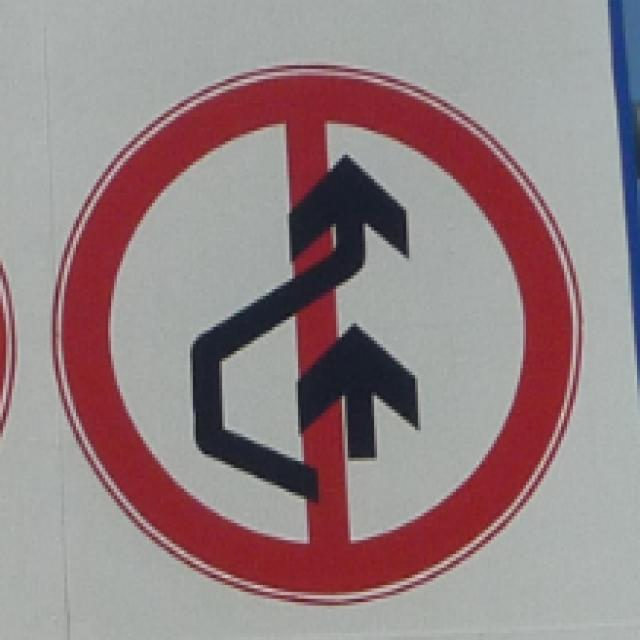Not that Direction: (61, 64, 591, 598)
